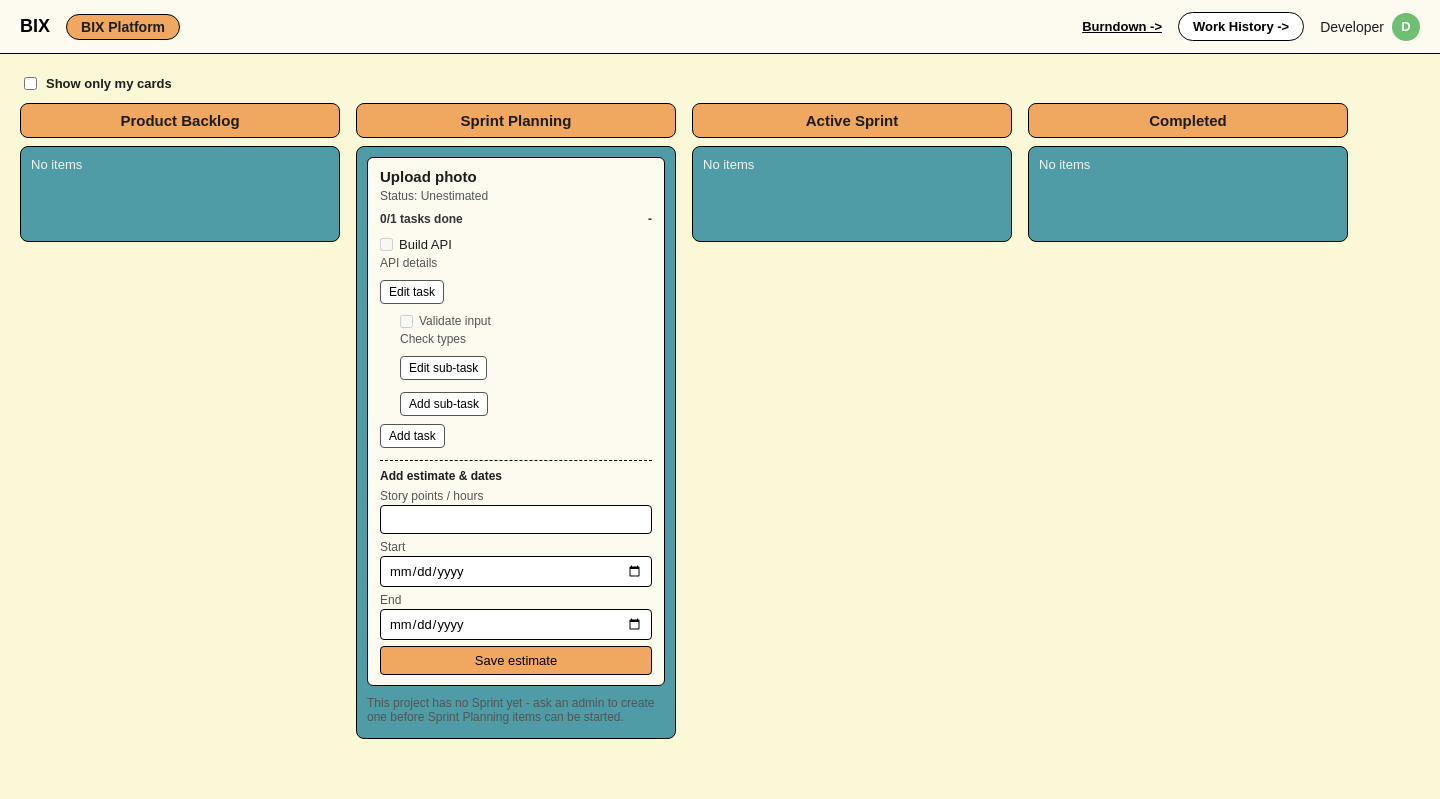
Sprint Planning breakdown › cancels an edit without sending a request
Click the button with aria-label "Edit task: Build API".
click(412, 292)  # box 380,280 -> 444,304
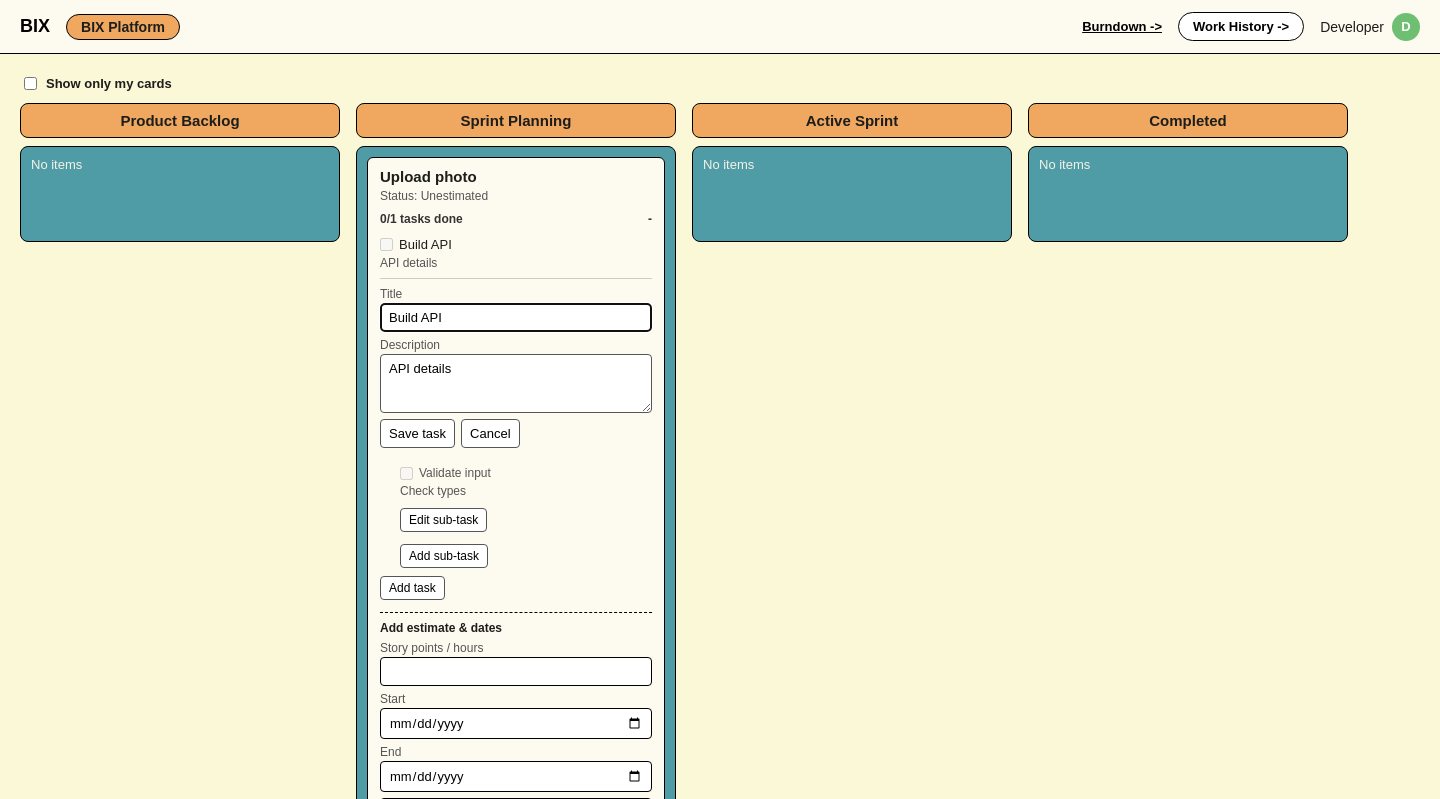
Replace the text in the field named "task title: Build API" with "Discard" at (516,318), box 380,303 -> 652,332
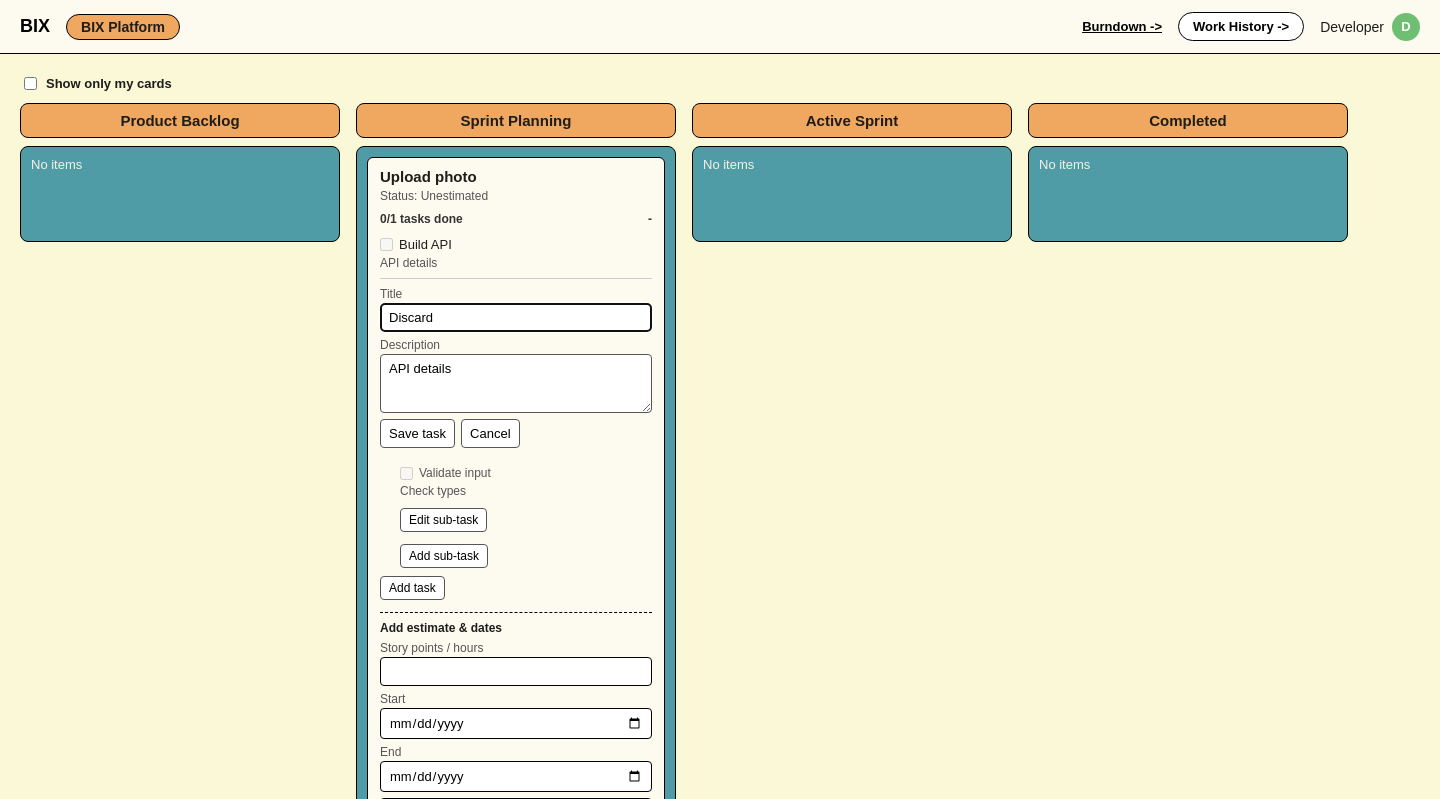
Click the button "Cancel".
click(490, 434)  # box 461,419 -> 520,448
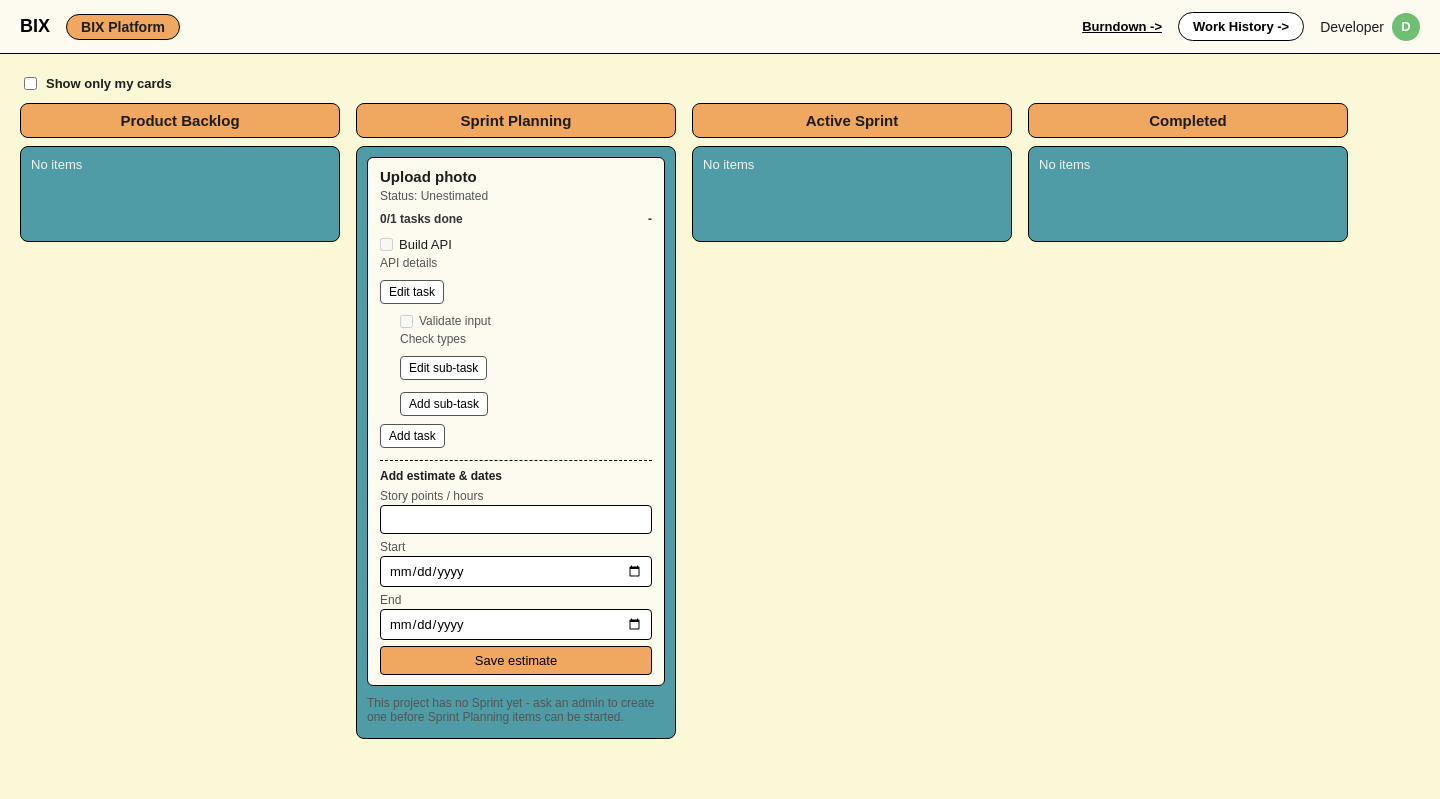
Click the button with aria-label "Edit task: Build API".
click(412, 292)  # box 380,280 -> 444,304
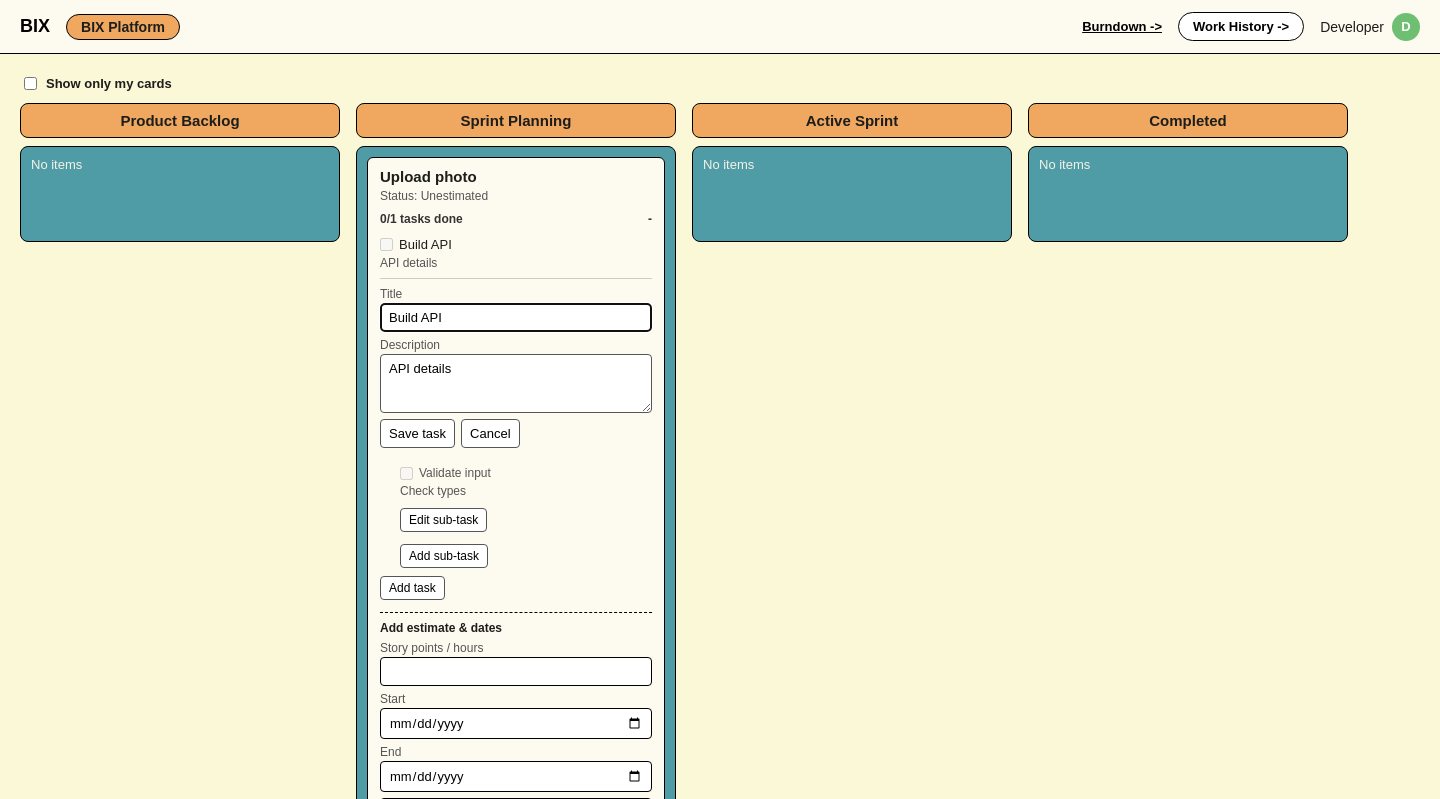
Expected: the field named "task title: Build API" holds "Build API", 380,303 -> 652,332
